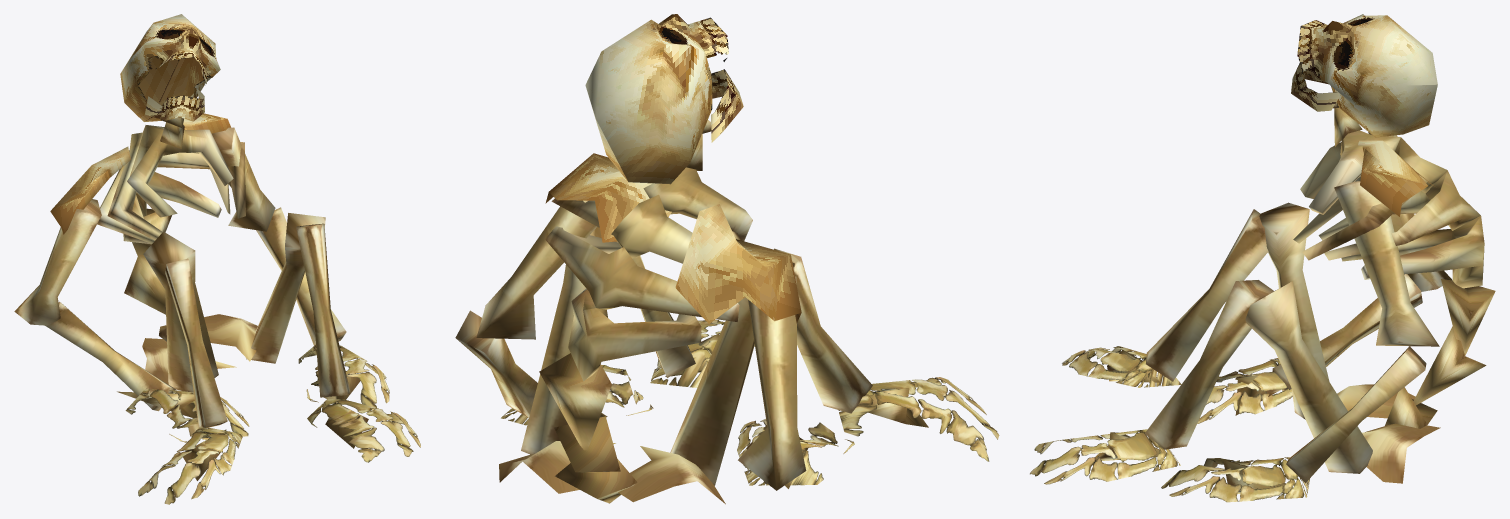
File: SkeletonSitting.fbx
The picture shows the model from 3 angles, left to right: view 1: azimuth 30°, elevation 25°; view 2: azimuth 150°, elevation 25°; view 3: azimuth 270°, elevation 25°; orthographic projection. The views are drawn at different scales.
Parts seen in each view (by area): view 1: 0_0, 1_0, 2_0; view 2: 0_0, 1_0, 2_0; view 3: 0_0, 1_0, 2_0.
Part boxes in pixels (box(x1,y1,x2,y2)): 0_0: box(14, 95, 368, 480); 1_0: box(50, 14, 230, 234); 2_0: box(125, 344, 420, 504); 0_0: box(455, 120, 928, 504); 1_0: box(545, 14, 801, 323); 2_0: box(501, 320, 999, 485); 0_0: box(1095, 102, 1495, 494); 1_0: box(1291, 14, 1437, 216); 2_0: box(1030, 346, 1309, 502).
Size of the model in its own units: 0.2965 by 0.3545 by 0.3548.
3 materials, 3 textured.
